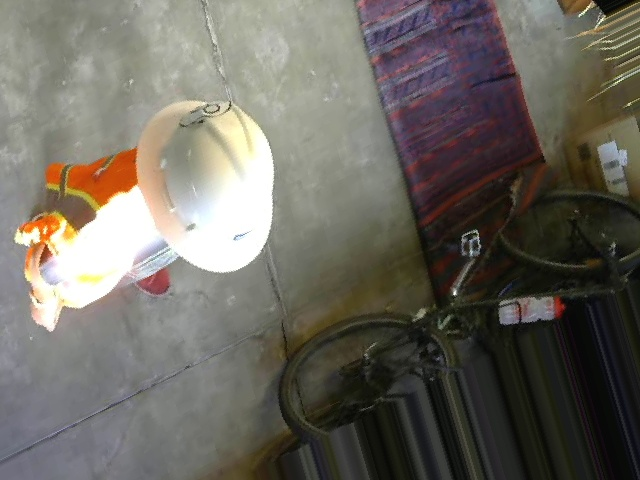eight: (175, 89, 235, 136)
